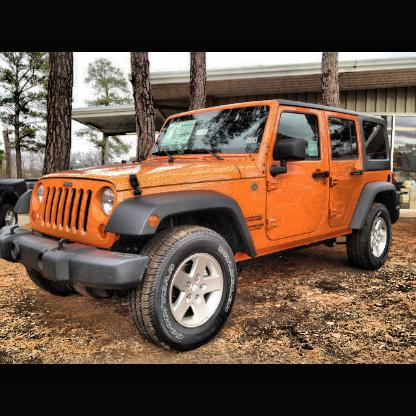Jeep Wrangler SUV 2012: (3, 103, 400, 353)
